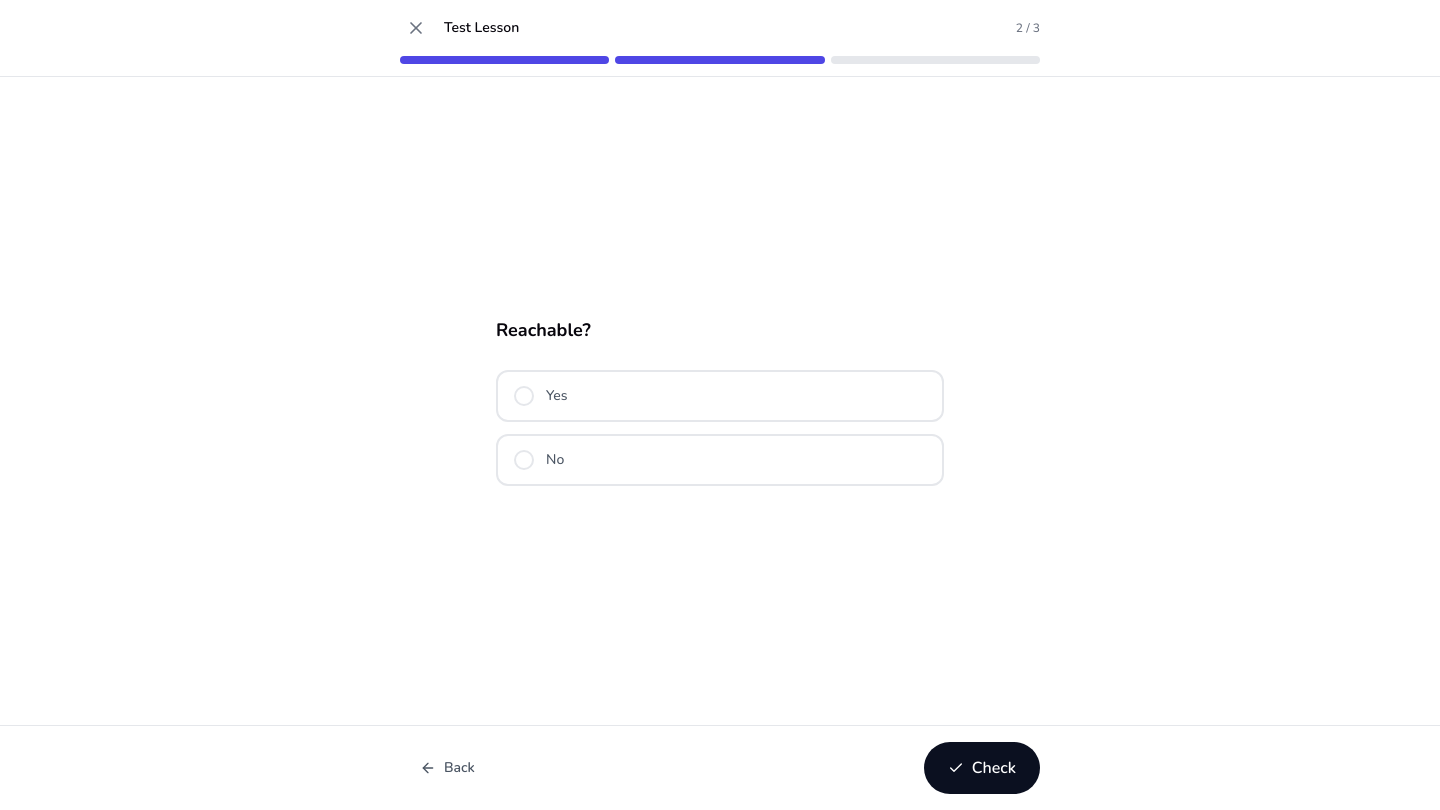
Test: LessonPlayer gating › requires a correct answer before letting the learner continue
The image size is (1440, 810).
Note: Checking with nothing selected is wrong: feedback shows, still gated.
Click the button "Check".
click(982, 768)  # box [924,742,1040,794]
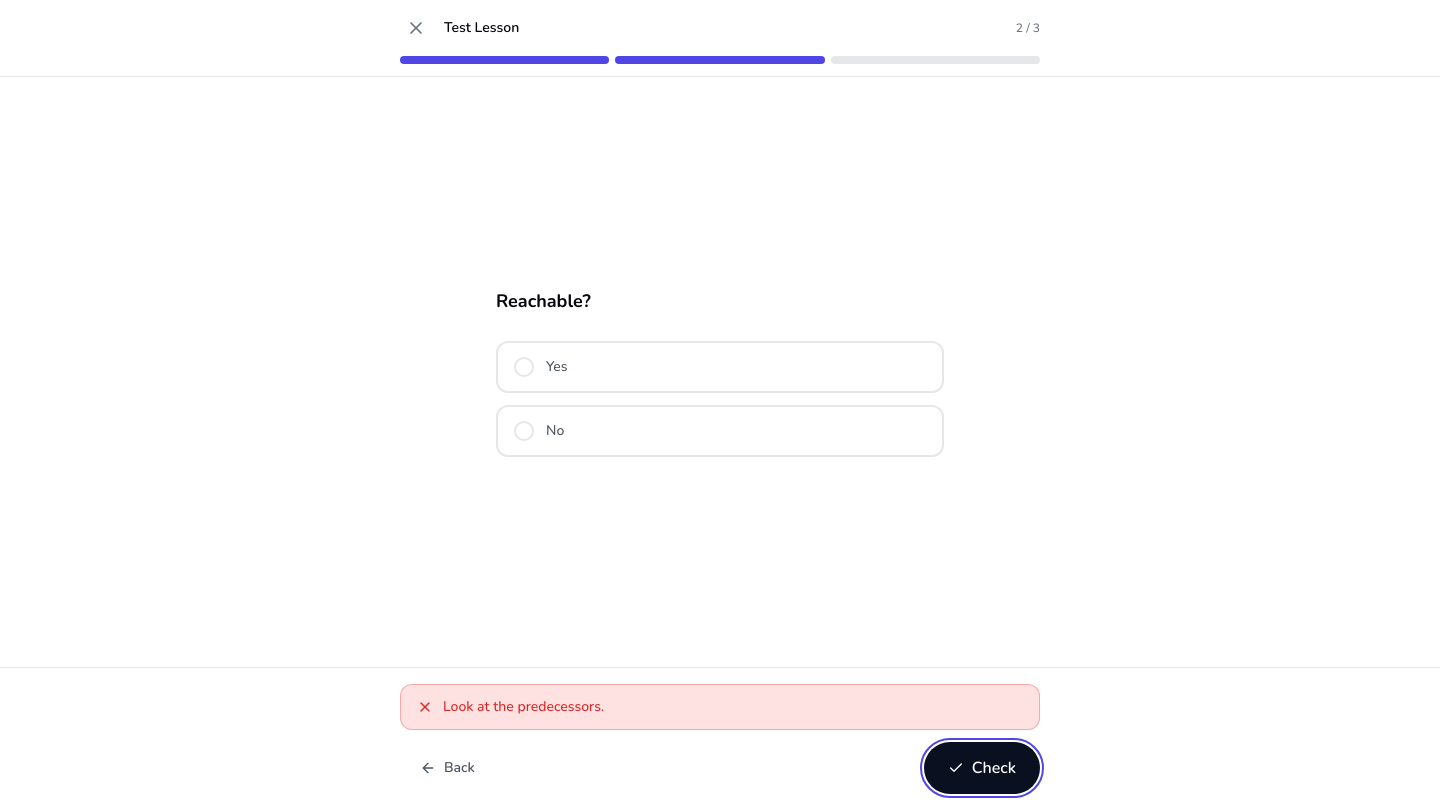
expect the text "Look at the predecessors." is shown: met, box [443,697,604,717]
Note: Pick the correct option and check again.
Click the radio button "No".
click(524, 431)  # box [496,405,944,457]
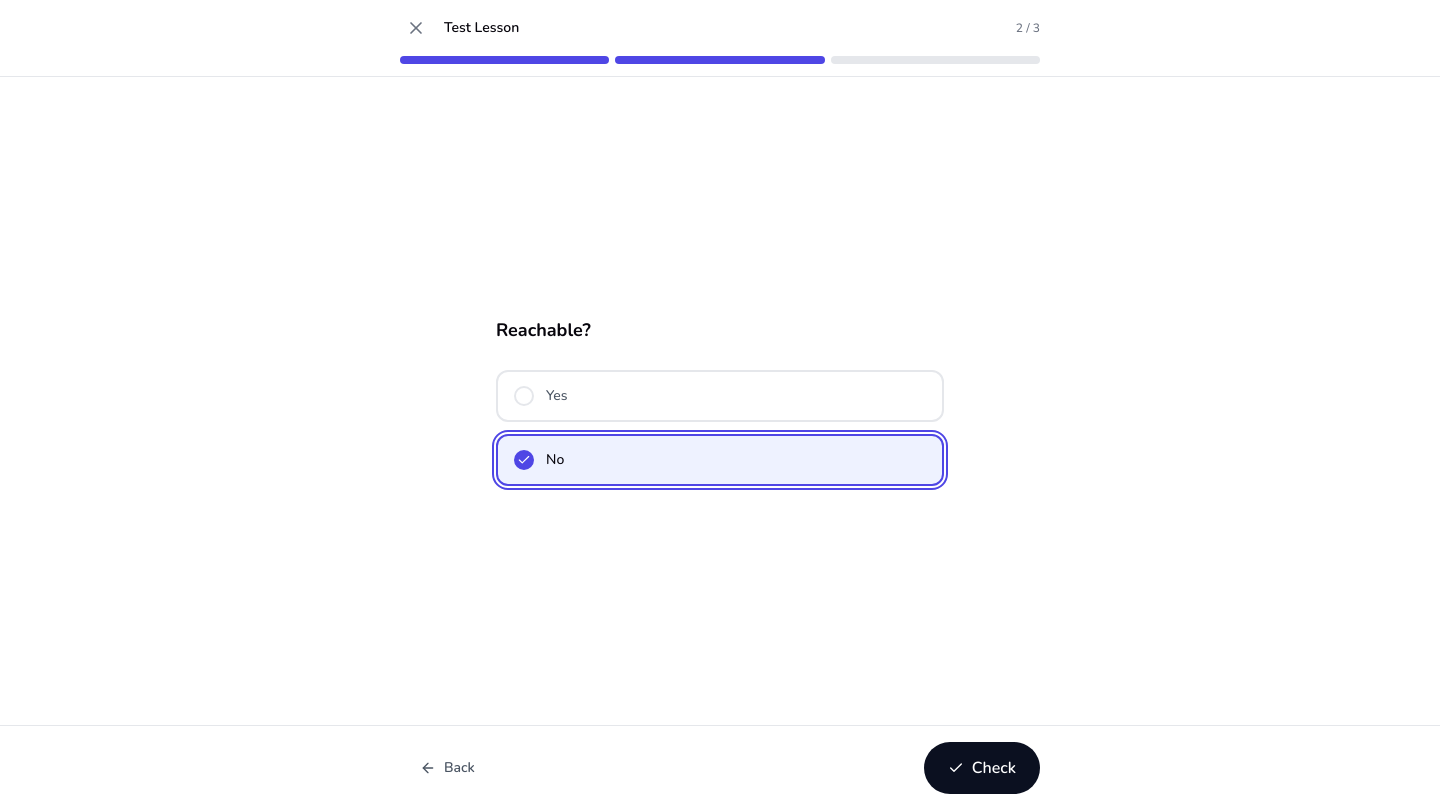
Click the button "Check".
click(982, 768)  # box [924,742,1040,794]
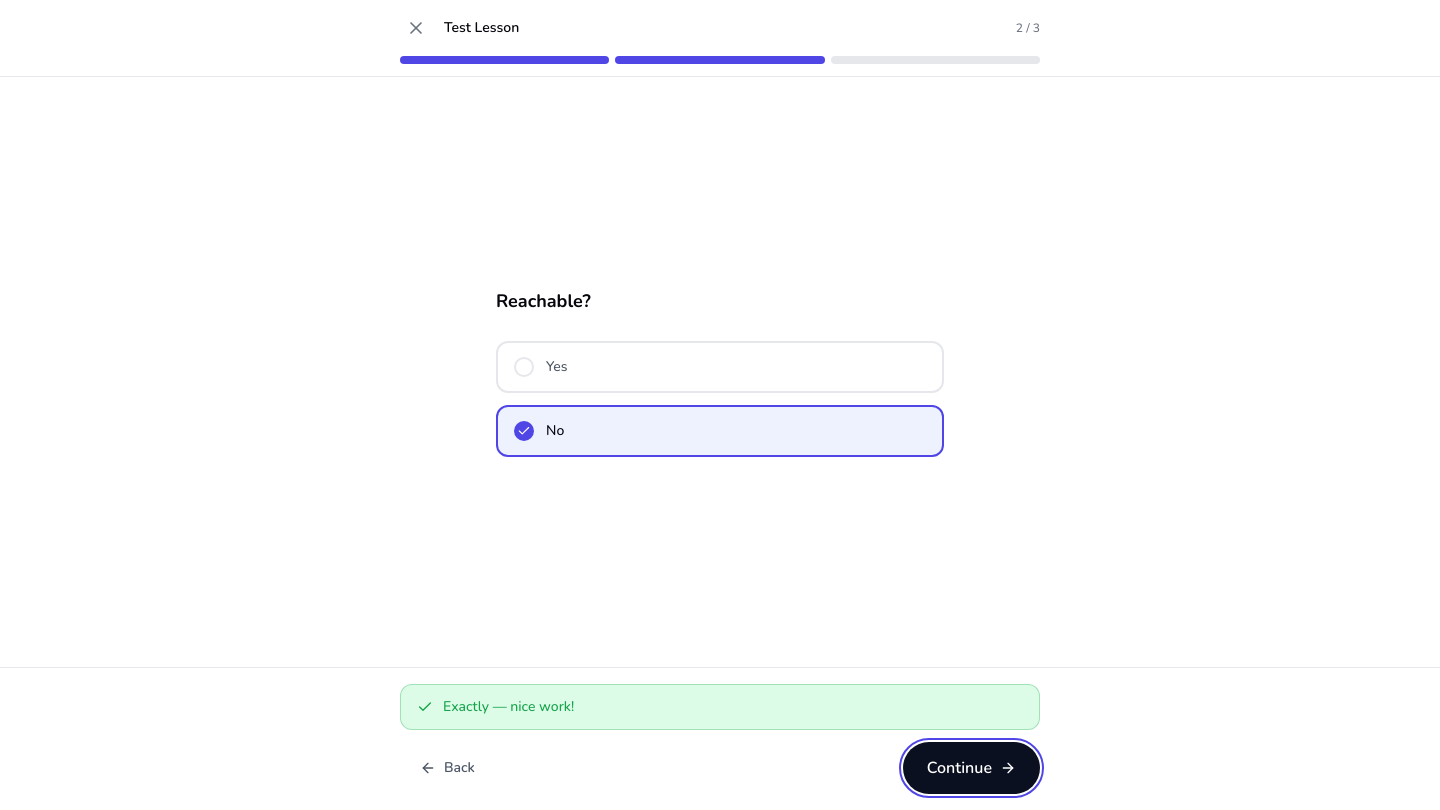
expect the text "Exactly — nice work!" is shown: met, box [443,697,574,717]
expect the button "Continue" is shown: met, box [903,742,1040,794]
